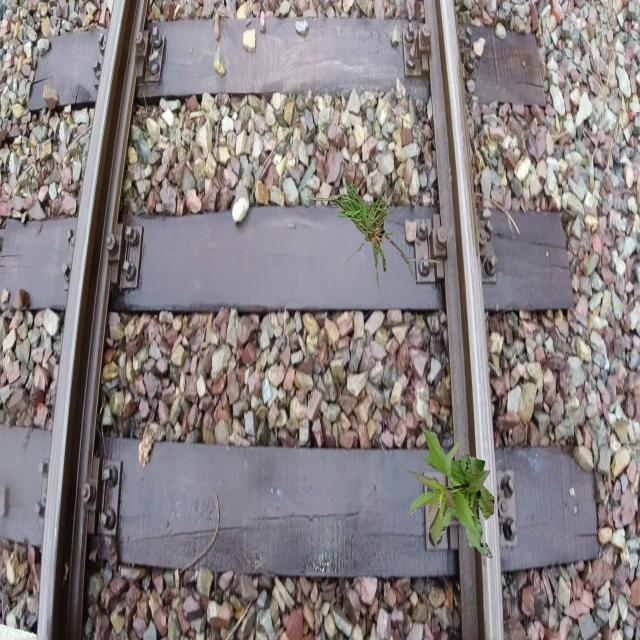Plant: (297, 174, 440, 294), (406, 429, 494, 559)
